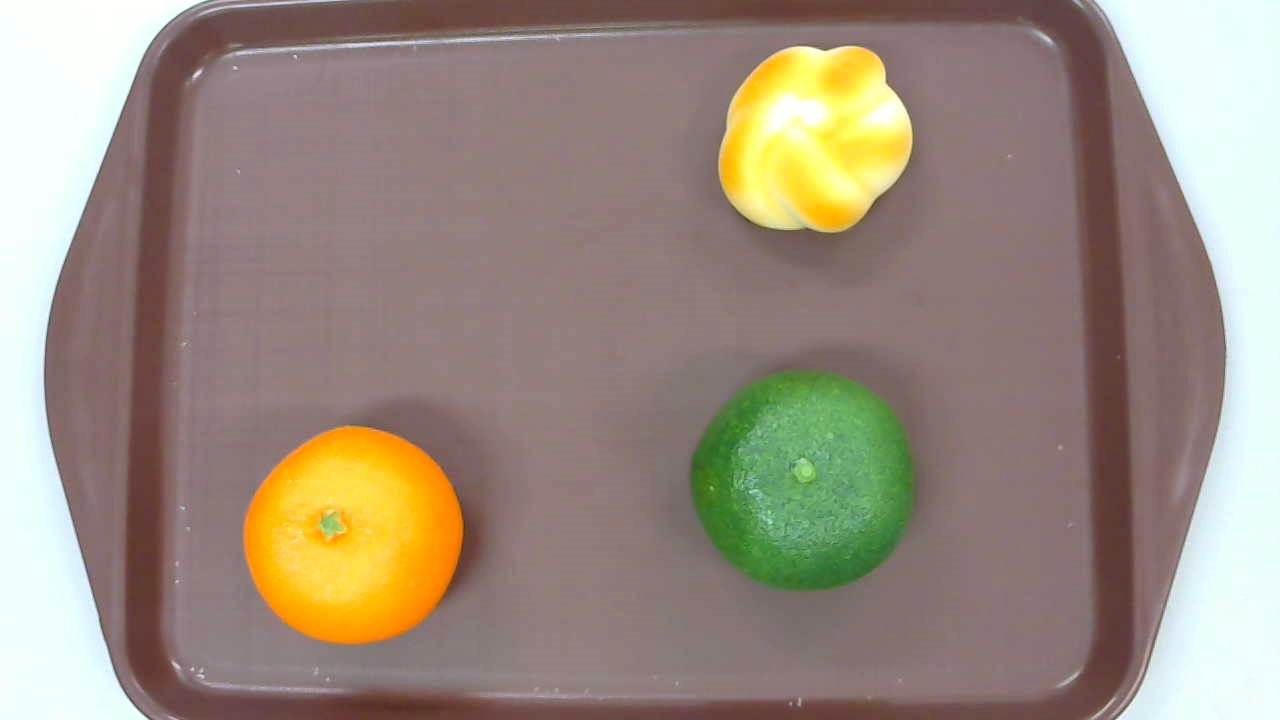green orange: (691, 367, 916, 593)
orange: (243, 425, 464, 643)
twist bread: (716, 44, 912, 234)
